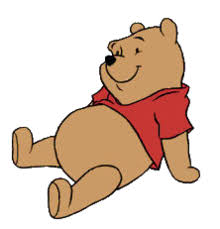Winnie: (92, 20, 190, 121)
